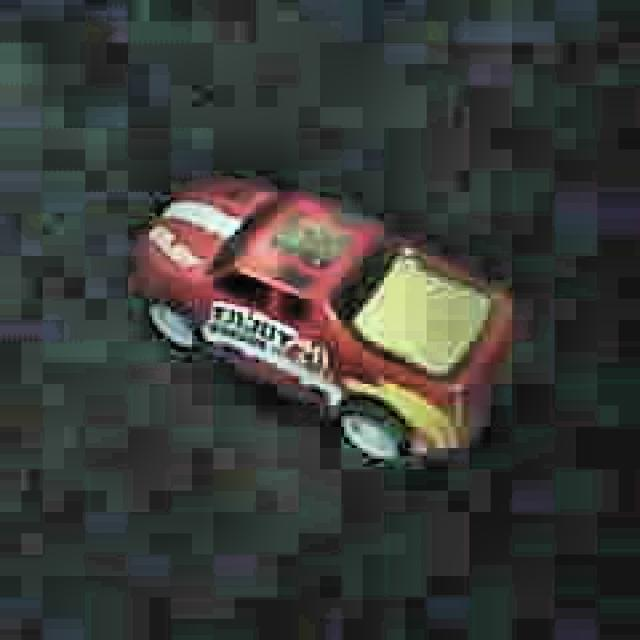car: (132, 165, 523, 478)
